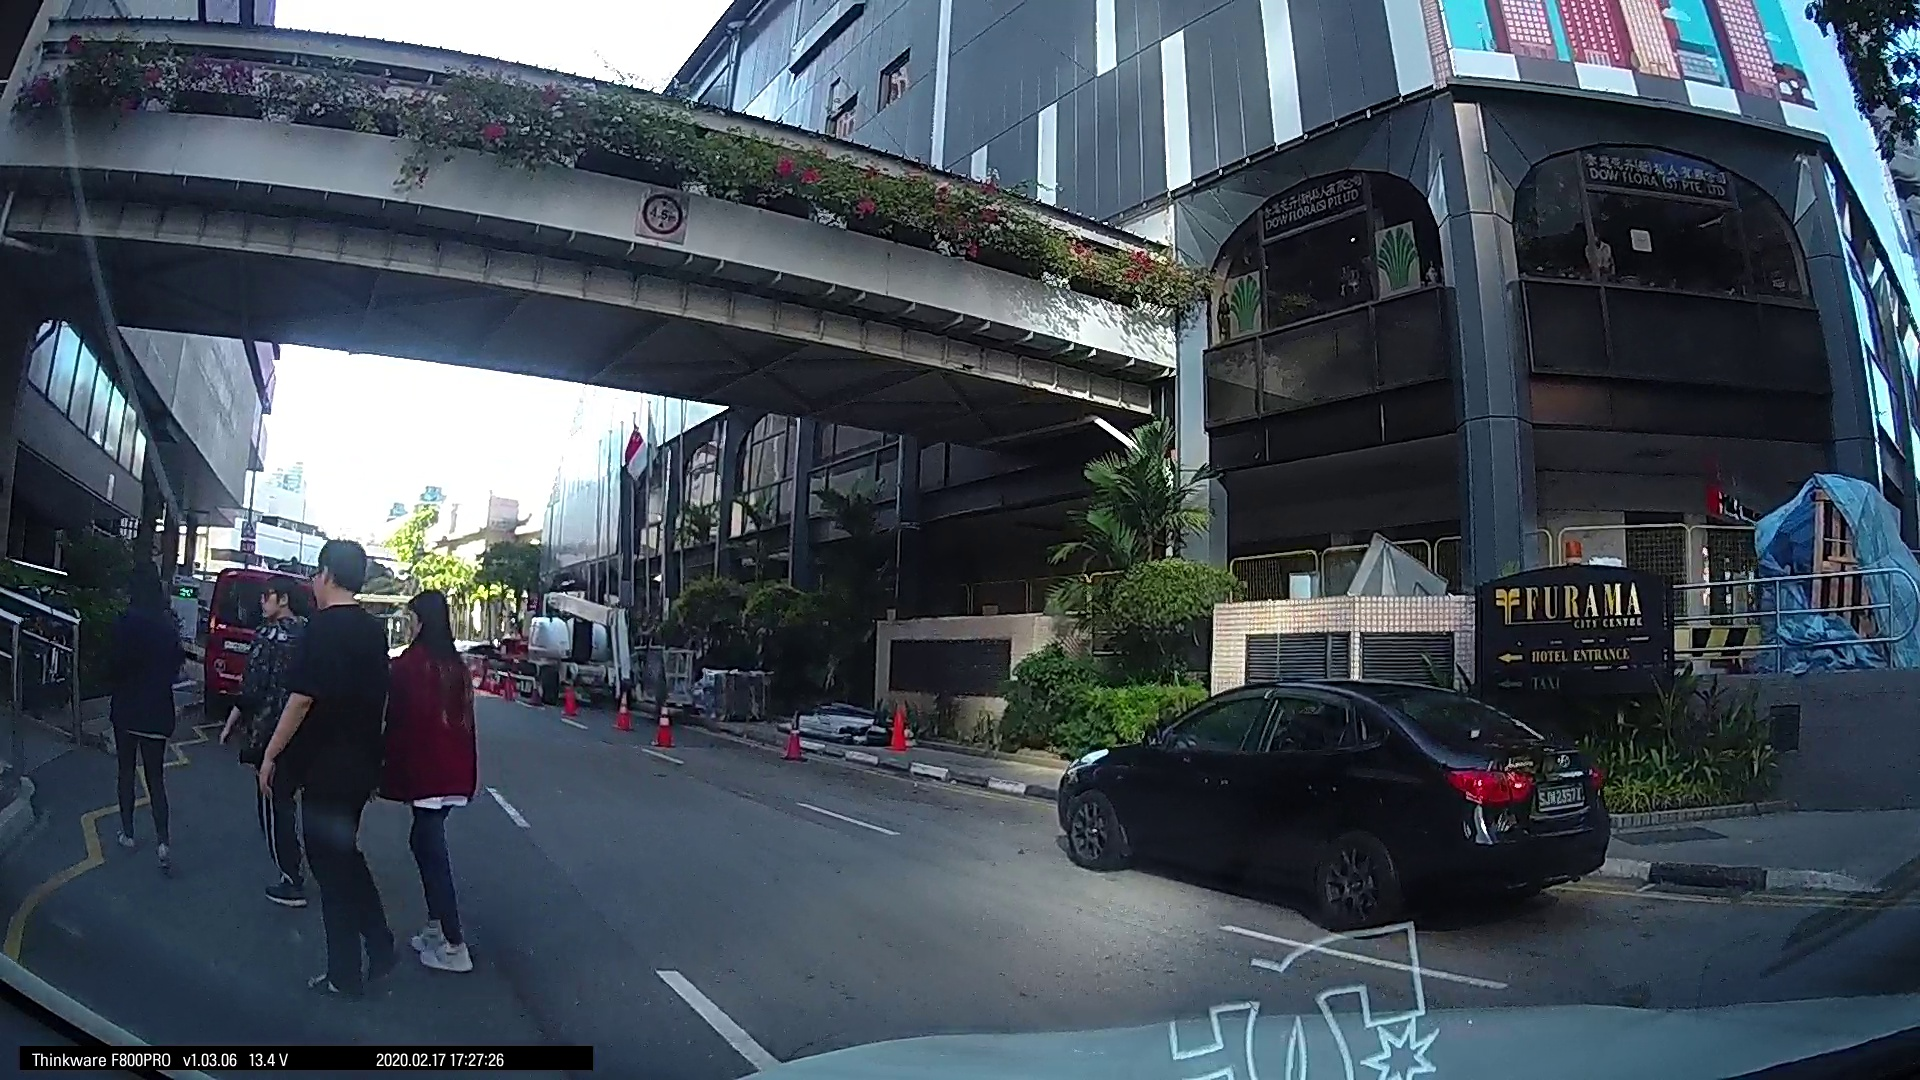Heavy Vehicle: (11, 479, 618, 1011), (1539, 564, 1905, 860), (806, 622, 870, 698)
Light Vehicle: (595, 605, 787, 836), (1236, 666, 1357, 760), (927, 655, 984, 704), (1022, 650, 1077, 696)
